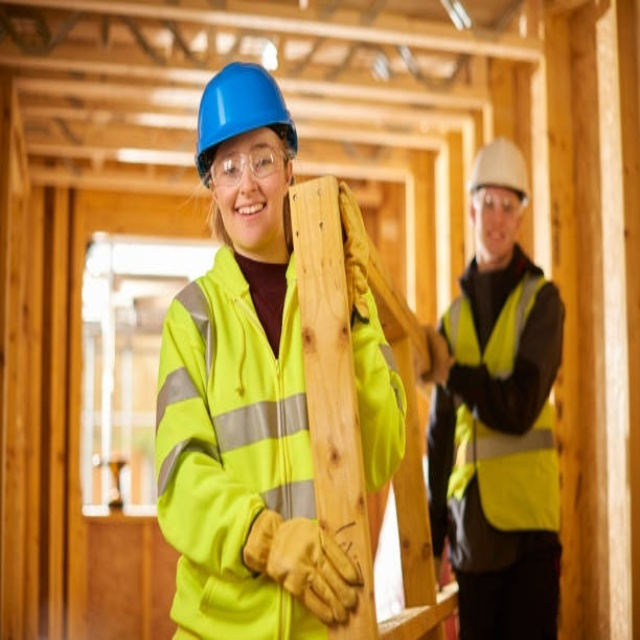Gafas: (209, 145, 288, 189), (473, 190, 522, 216)
Guantes: (237, 504, 368, 626), (337, 179, 373, 328)
Sin_mascara: (224, 196, 270, 237), (481, 224, 510, 249)
